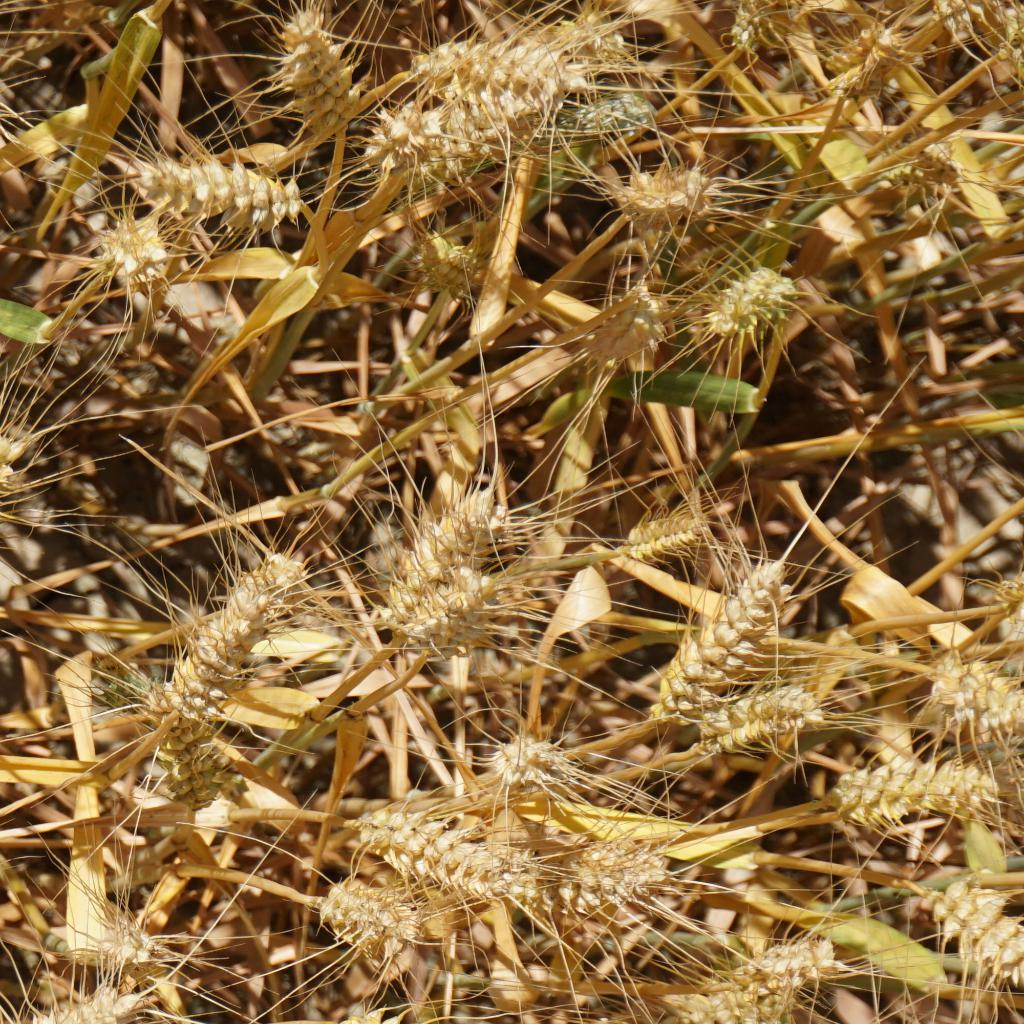0-0: (177, 540, 295, 705), (361, 502, 547, 595), (120, 139, 300, 233), (351, 800, 523, 891), (408, 31, 608, 108), (661, 564, 779, 692), (891, 874, 1024, 985), (833, 749, 1001, 830), (264, 11, 367, 126), (140, 685, 234, 806), (376, 108, 528, 179), (308, 873, 412, 972), (540, 833, 668, 911), (594, 270, 687, 372), (561, 984, 793, 1024), (418, 579, 524, 665), (699, 261, 797, 344), (416, 224, 505, 315), (99, 208, 184, 298), (896, 122, 989, 200), (920, 651, 1016, 723), (608, 159, 728, 214), (705, 678, 820, 733), (740, 931, 854, 984), (486, 718, 576, 784), (621, 503, 723, 560), (0, 975, 118, 1024), (822, 38, 914, 100), (102, 900, 173, 972), (727, 0, 787, 59), (0, 72, 24, 140)
